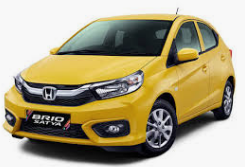car: (3, 9, 236, 159)
